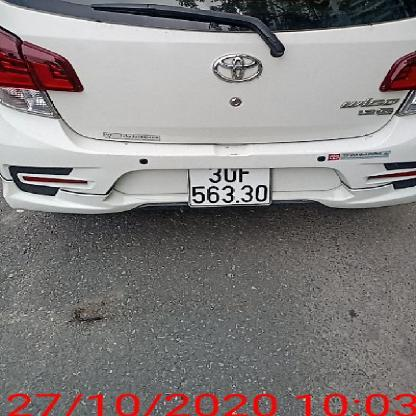biensoxe: (182, 163, 274, 212)
